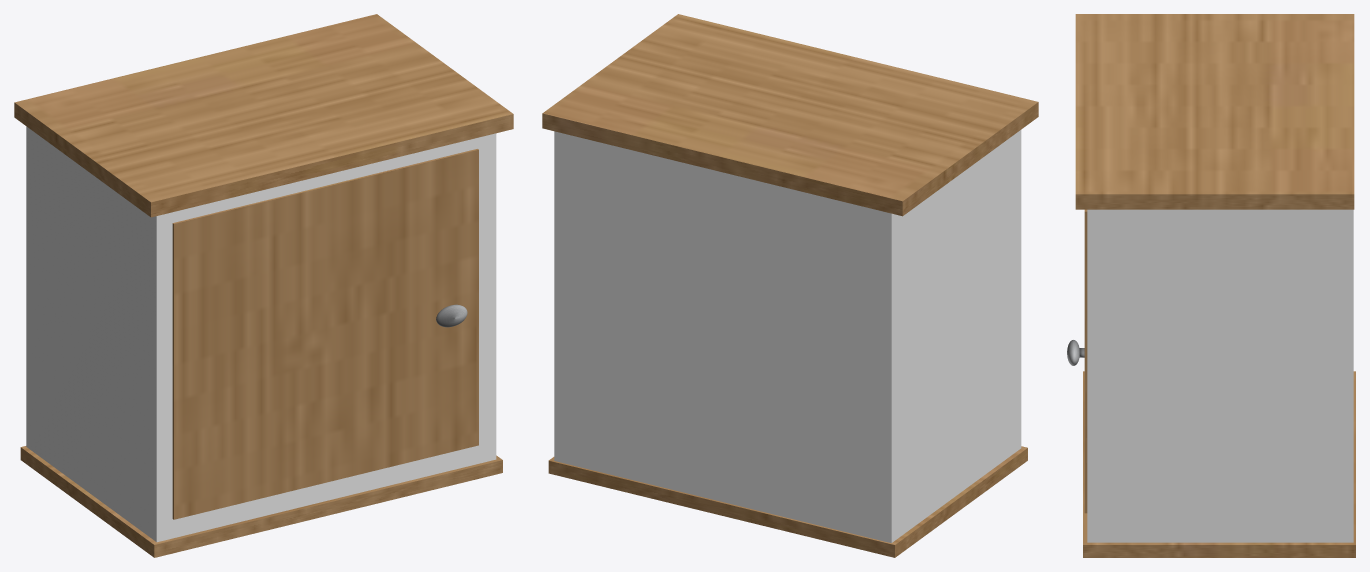
File: Floating Cupboard (central-right).fbx
3 views of the same model, side by side, from view 1: azimuth 30°, elevation 25°; view 2: azimuth 150°, elevation 25°; view 3: azimuth 270°, elevation 25° (orthographic). The views are drawn at different scales.
Parts seen in each view (by area): view 1: Door 1, Base, Counter, Base.001; view 2: Base, Counter, Base.001; view 3: Base, Counter, Base.001, Door 1.
Part boxes in pixels (x1,y1,x2,y2): Door 1: (172,149,478,519); Base: (26,126,496,542); Counter: (14,14,513,217); Base.001: (20,446,502,557); Base: (554,130,1021,542); Counter: (542,14,1038,216); Base.001: (548,446,1027,557); Base: (1087,209,1353,542); Counter: (1075,14,1354,209); Base.001: (1083,371,1355,557); Door 1: (1084,209,1087,513).
Bounding box in the file's own units: 0.6648 × 0.6306 × 0.4498.
